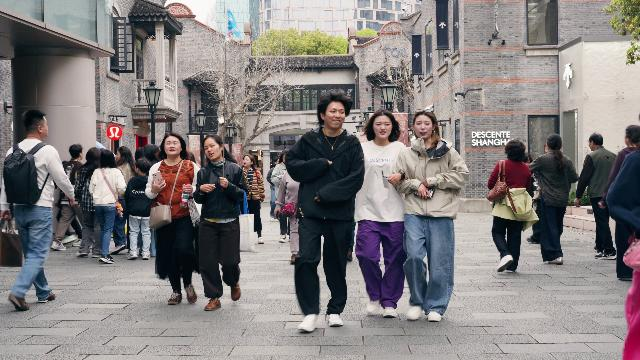person: (285, 88, 365, 333), (390, 109, 470, 322), (0, 109, 76, 311), (354, 108, 408, 320), (148, 130, 206, 310), (193, 134, 250, 311), (485, 139, 539, 274), (528, 134, 578, 265), (602, 125, 640, 281), (574, 133, 618, 260), (90, 149, 128, 264), (51, 144, 85, 251), (124, 158, 154, 260), (242, 154, 266, 244), (526, 187, 542, 244), (284, 140, 286, 149)
